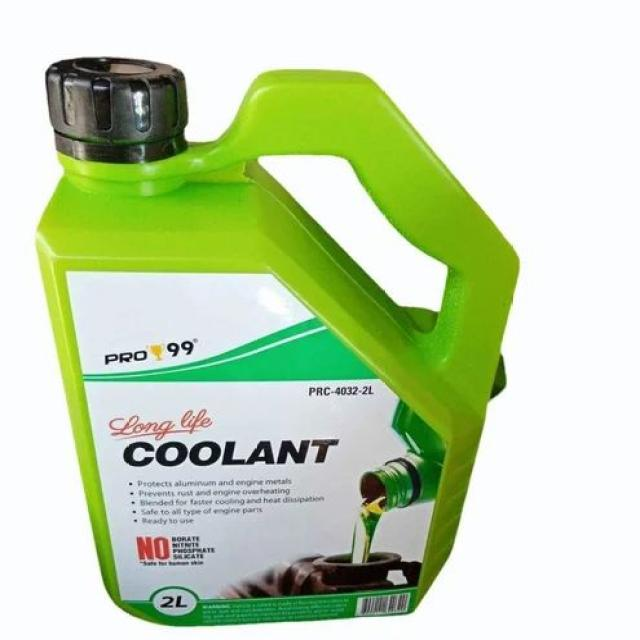coolant: (35, 50, 526, 628)
